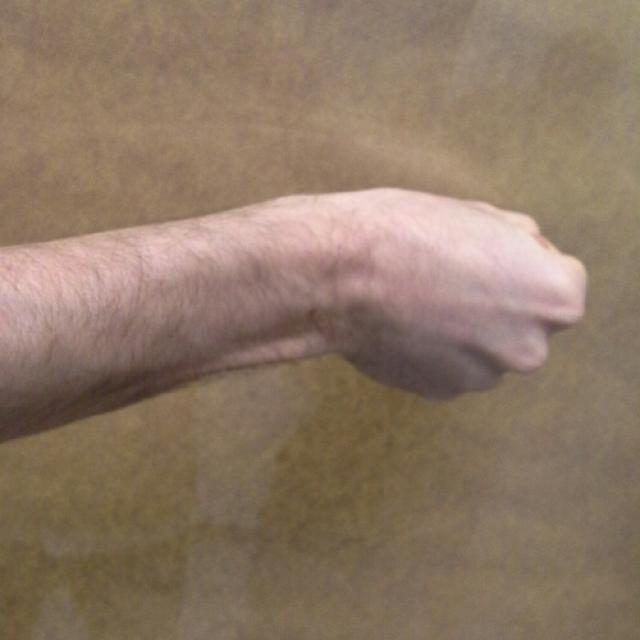rock: (332, 188, 588, 407)
